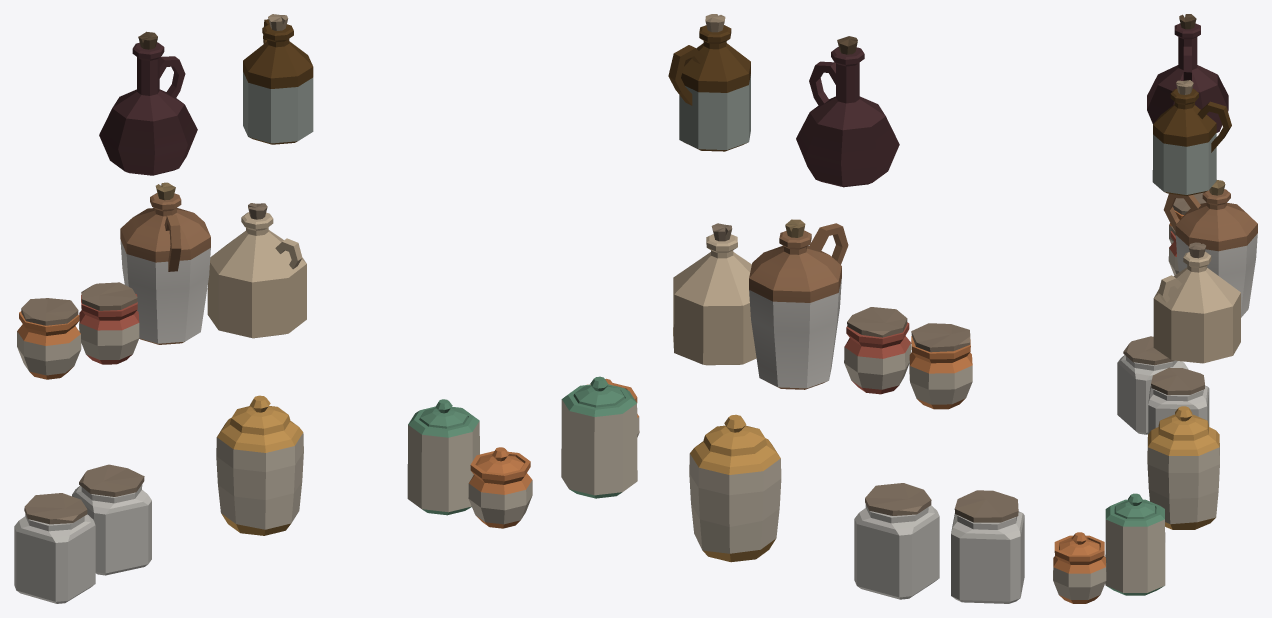
File: kingdom_SM_Prop_Cabinet_02_Dressing_01.gltf
3 views of the same model, side by side, from view 1: azimuth 30°, elevation 25°; view 2: azimuth 150°, elevation 25°; view 3: azimuth 270°, elevation 25° (orthographic). The views are drawn at different scales.
Parts seen in each view (by area): view 1: SM_Prop_Cabinet_02_Dressing_01; view 2: SM_Prop_Cabinet_02_Dressing_01; view 3: SM_Prop_Cabinet_02_Dressing_01.
Part boxes in pixels (bbox=[...]): SM_Prop_Cabinet_02_Dressing_01: bbox=[14, 14, 532, 603]; SM_Prop_Cabinet_02_Dressing_01: bbox=[561, 14, 1024, 603]; SM_Prop_Cabinet_02_Dressing_01: bbox=[1053, 14, 1257, 603].
Size of the model in its own units: 1.15 by 1.21 by 0.4938.
1 material, 1 textured.
